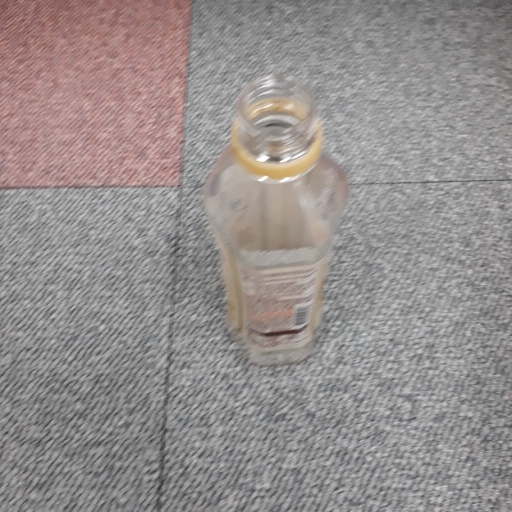Plastic_0: (198, 75, 350, 370)
